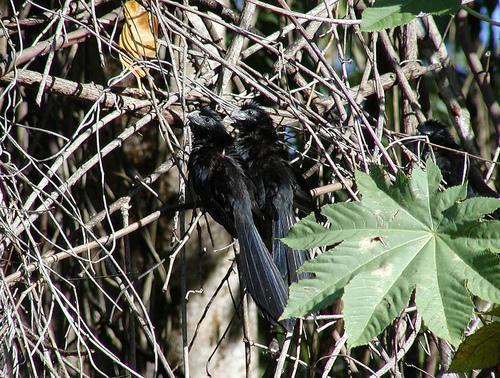004.Groove_billed_Ani: (181, 107, 284, 318), (230, 102, 316, 291)
